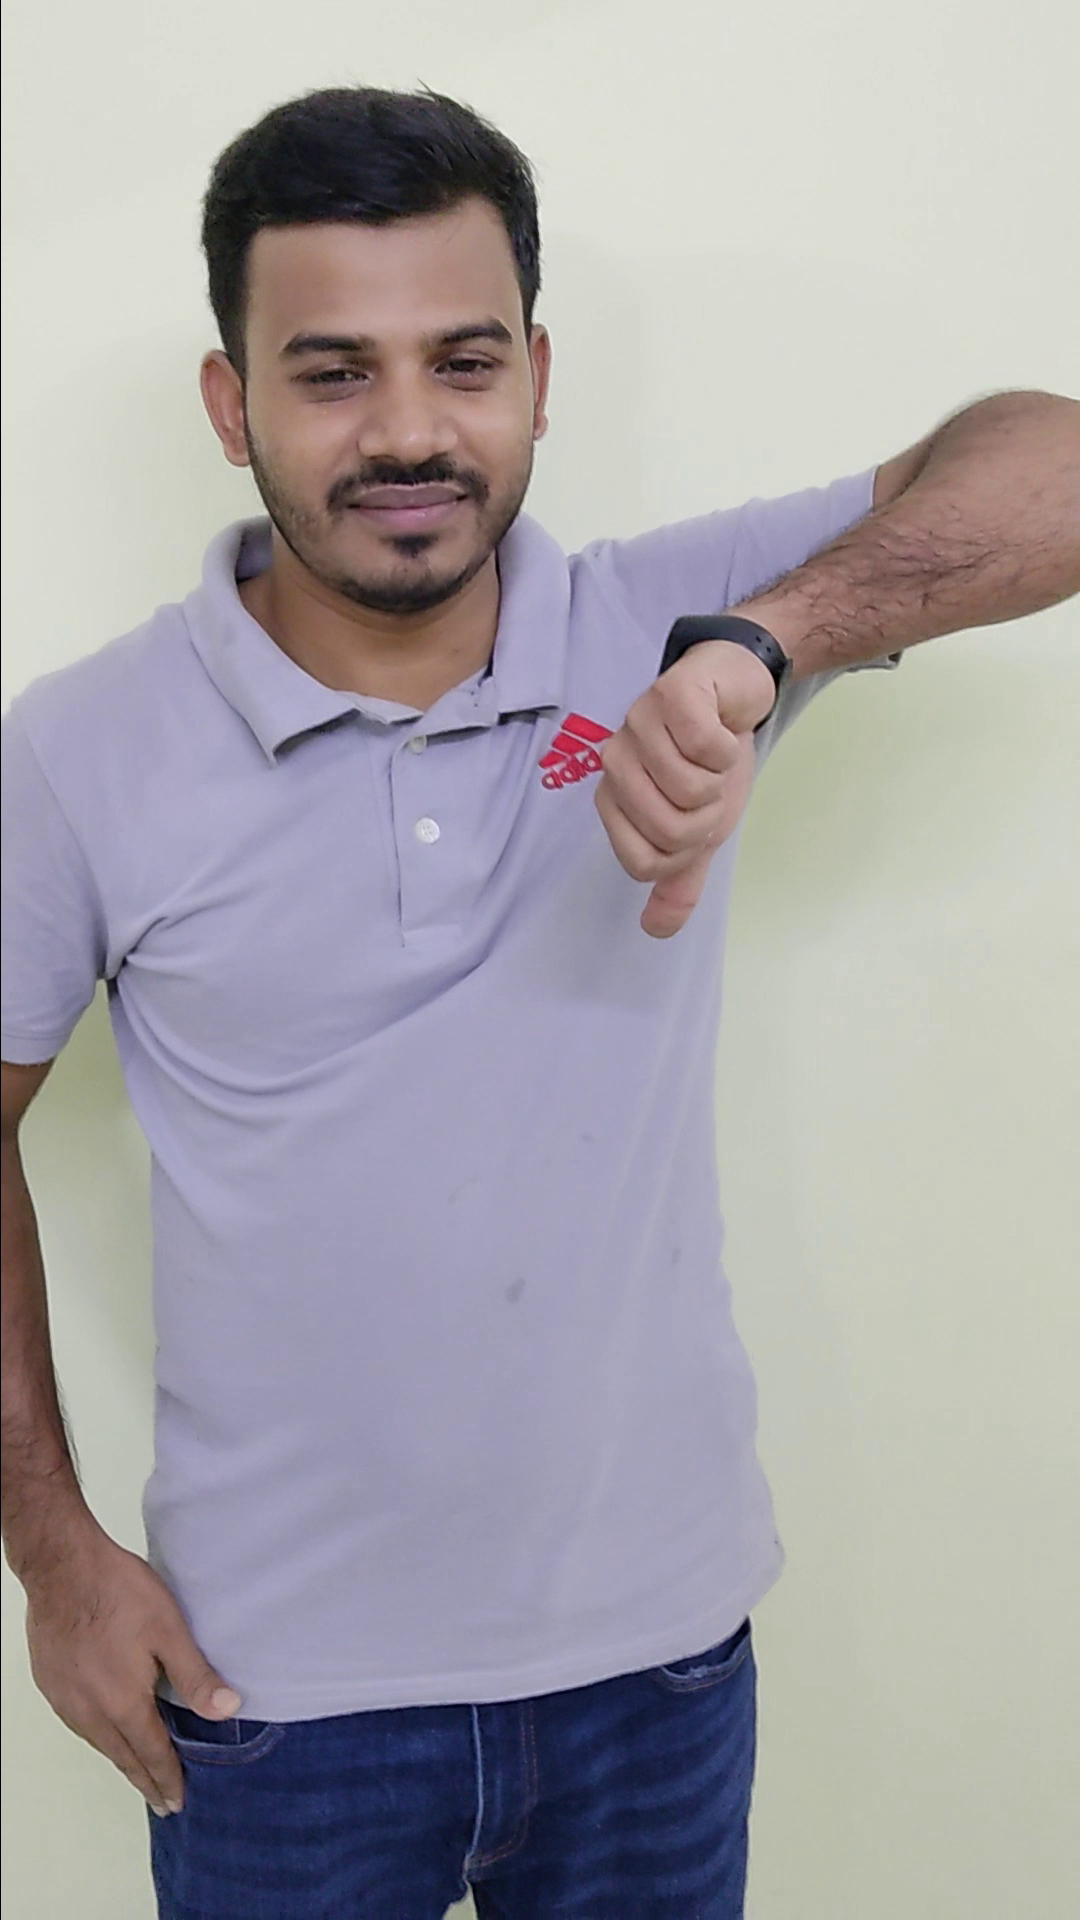Dislike: (575, 574, 803, 948)
None: (4, 1516, 262, 1829)
